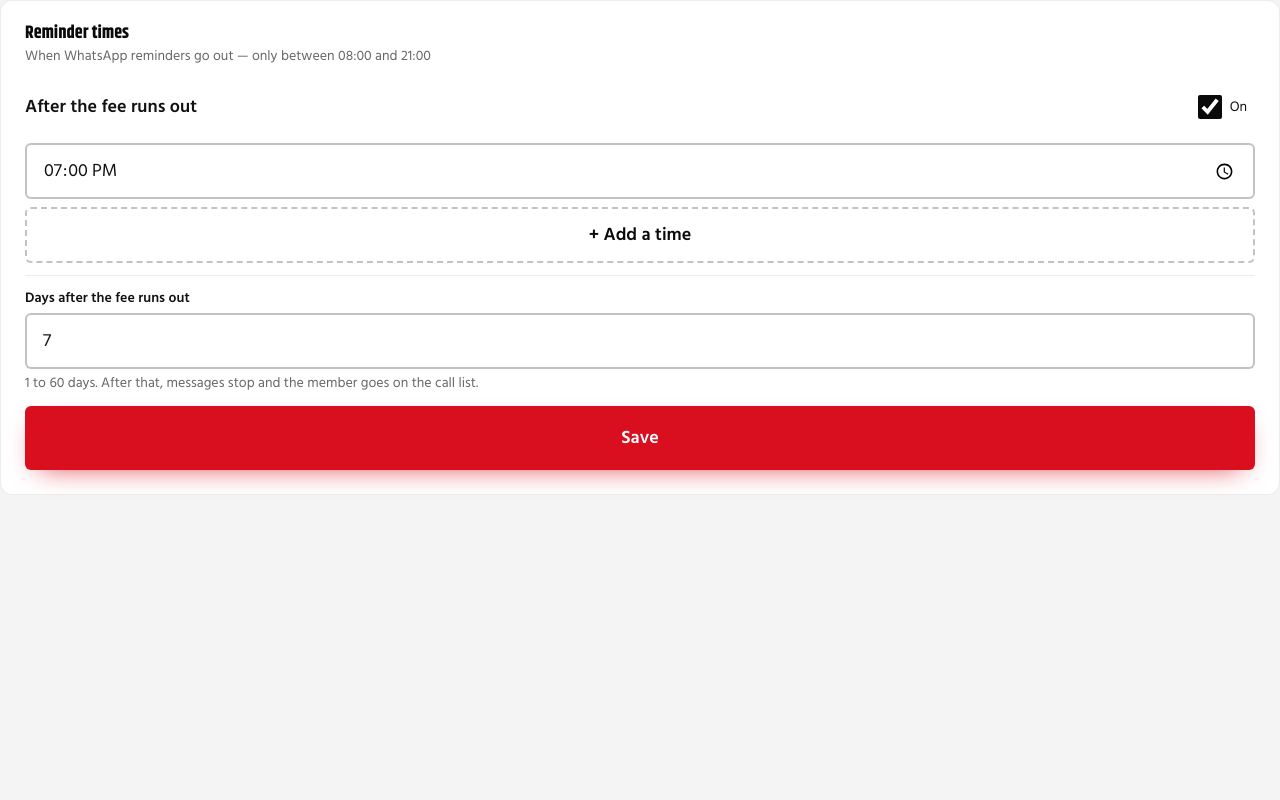
RemindersForm › updates the count as a time is added
This screenshot has width=1280, height=800.
Click the button "+ Add a time". click: [640, 235]
box: 25,207 -> 1255,263
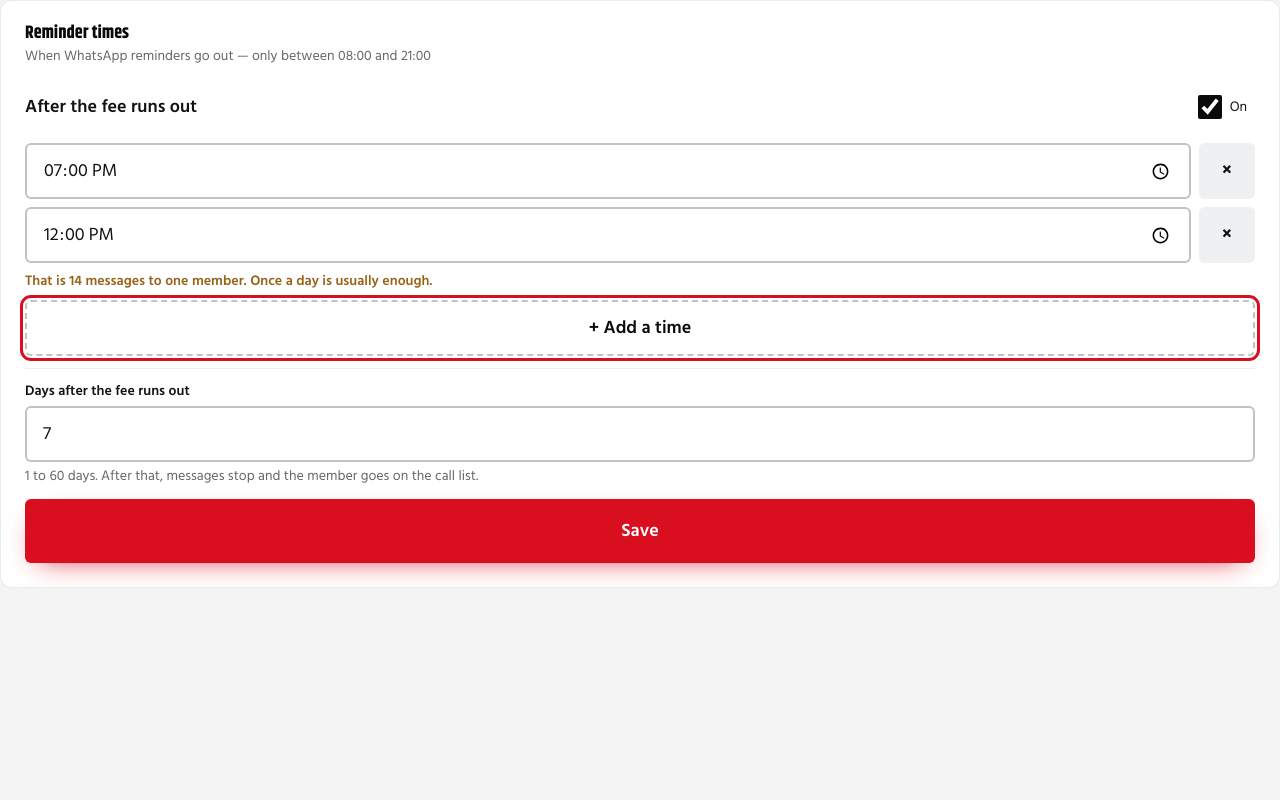
Check: the text "14 messages to one member" is shown, box 25,270 -> 432,293
